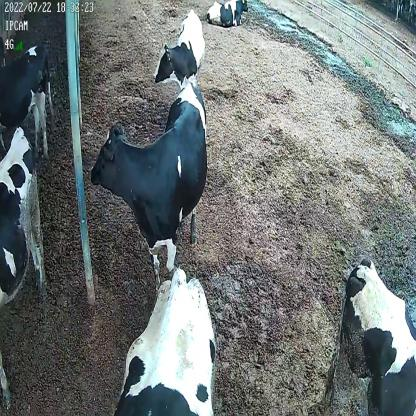cow: (90, 78, 211, 294), (153, 11, 207, 100), (206, 0, 249, 28)
